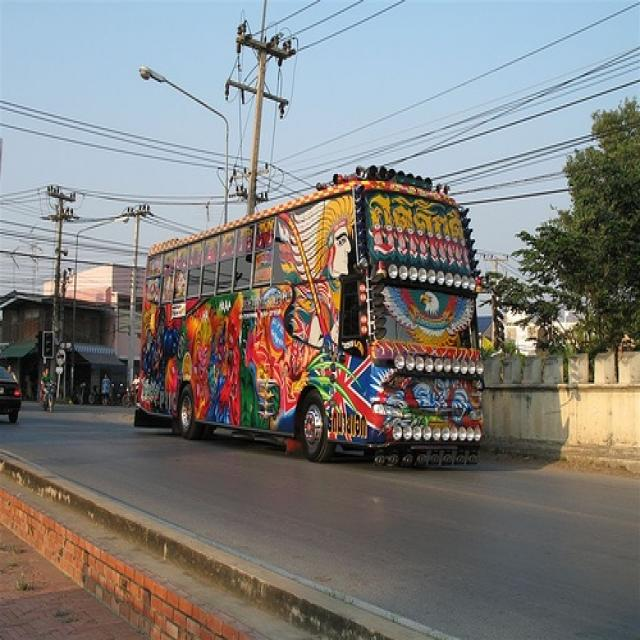bus: (133, 165, 483, 466)
pole: (243, 43, 266, 215)
